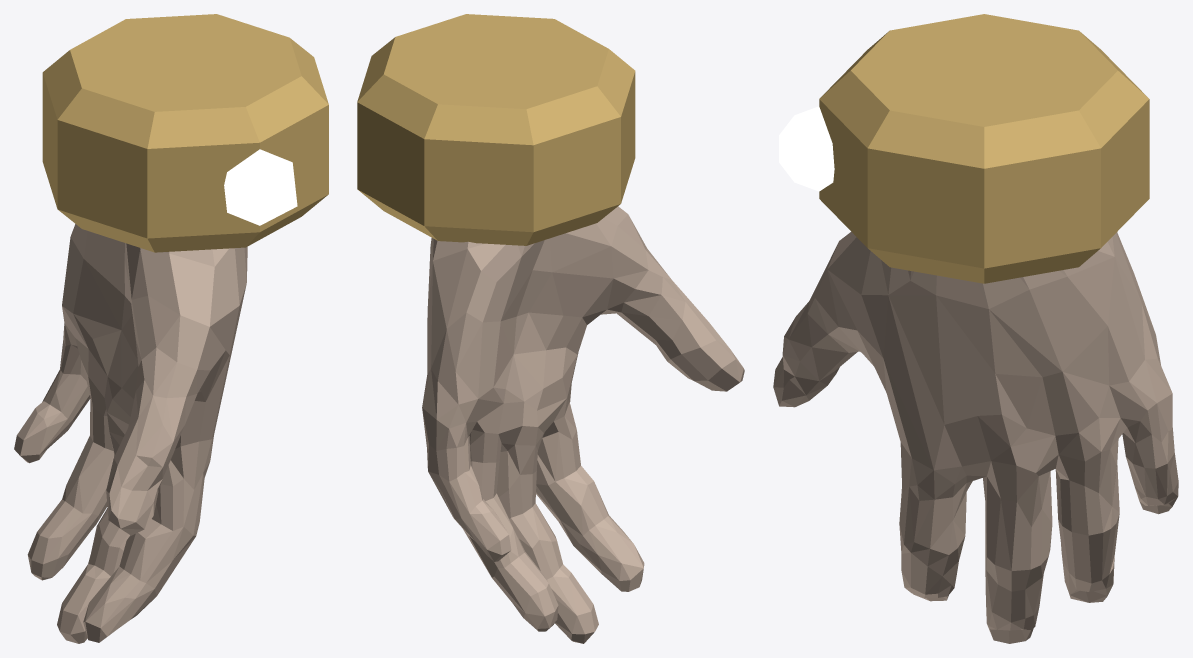
The model's file is small-hands.glb.
The picture shows the model from 3 angles, left to right: view 1: azimuth 30°, elevation 25°; view 2: azimuth 150°, elevation 25°; view 3: azimuth 270°, elevation 25°; orthographic projection. The views are drawn at different scales.
Visible parts, largest first — view 1: small_hands; view 2: small_hands; view 3: small_hands.
Part boxes in pixels (<box>): small_hands: <box>14,14,328,643</box>; small_hands: <box>357,14,744,643</box>; small_hands: <box>773,14,1178,643</box>.
Size of the model in its own units: 0.0479 by 0.0881 by 0.0515.
